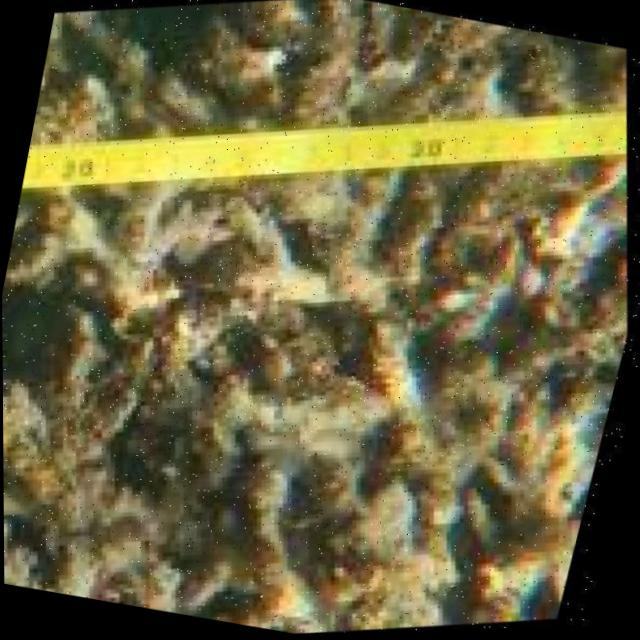Dead Coral: (0, 38, 640, 640)
